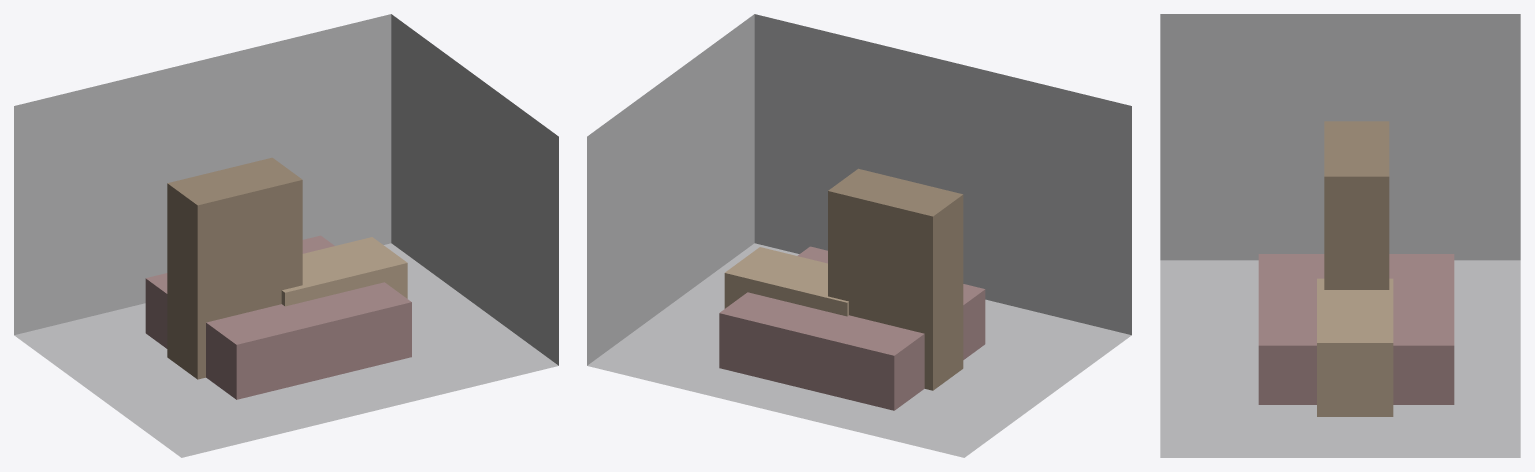
File: current_layout.glb
3 views of the same model, side by side, from view 1: azimuth 30°, elevation 25°; view 2: azimuth 150°, elevation 25°; view 3: azimuth 270°, elevation 25° (orthographic). The views are drawn at different scales.
Visible parts, largest first — view 1: room, wardrobe, bed, desk; view 2: room, wardrobe, bed, desk; view 3: room, bed, wardrobe, desk.
Part boxes in pixels (bbox=[...]): room: bbox=[14, 14, 558, 457]; wardrobe: bbox=[167, 157, 302, 379]; bed: bbox=[145, 235, 411, 399]; desk: bbox=[281, 237, 407, 306]; room: bbox=[587, 14, 1131, 457]; wardrobe: bbox=[828, 168, 963, 390]; bed: bbox=[719, 246, 985, 410]; desk: bbox=[724, 247, 848, 316]; room: bbox=[1160, 14, 1520, 457]; bed: bbox=[1258, 254, 1454, 404]; wardrobe: bbox=[1324, 121, 1389, 289]; desk: bbox=[1317, 278, 1393, 416].
Size of the model in its own units: 4.31 by 2.5 by 3.31.
